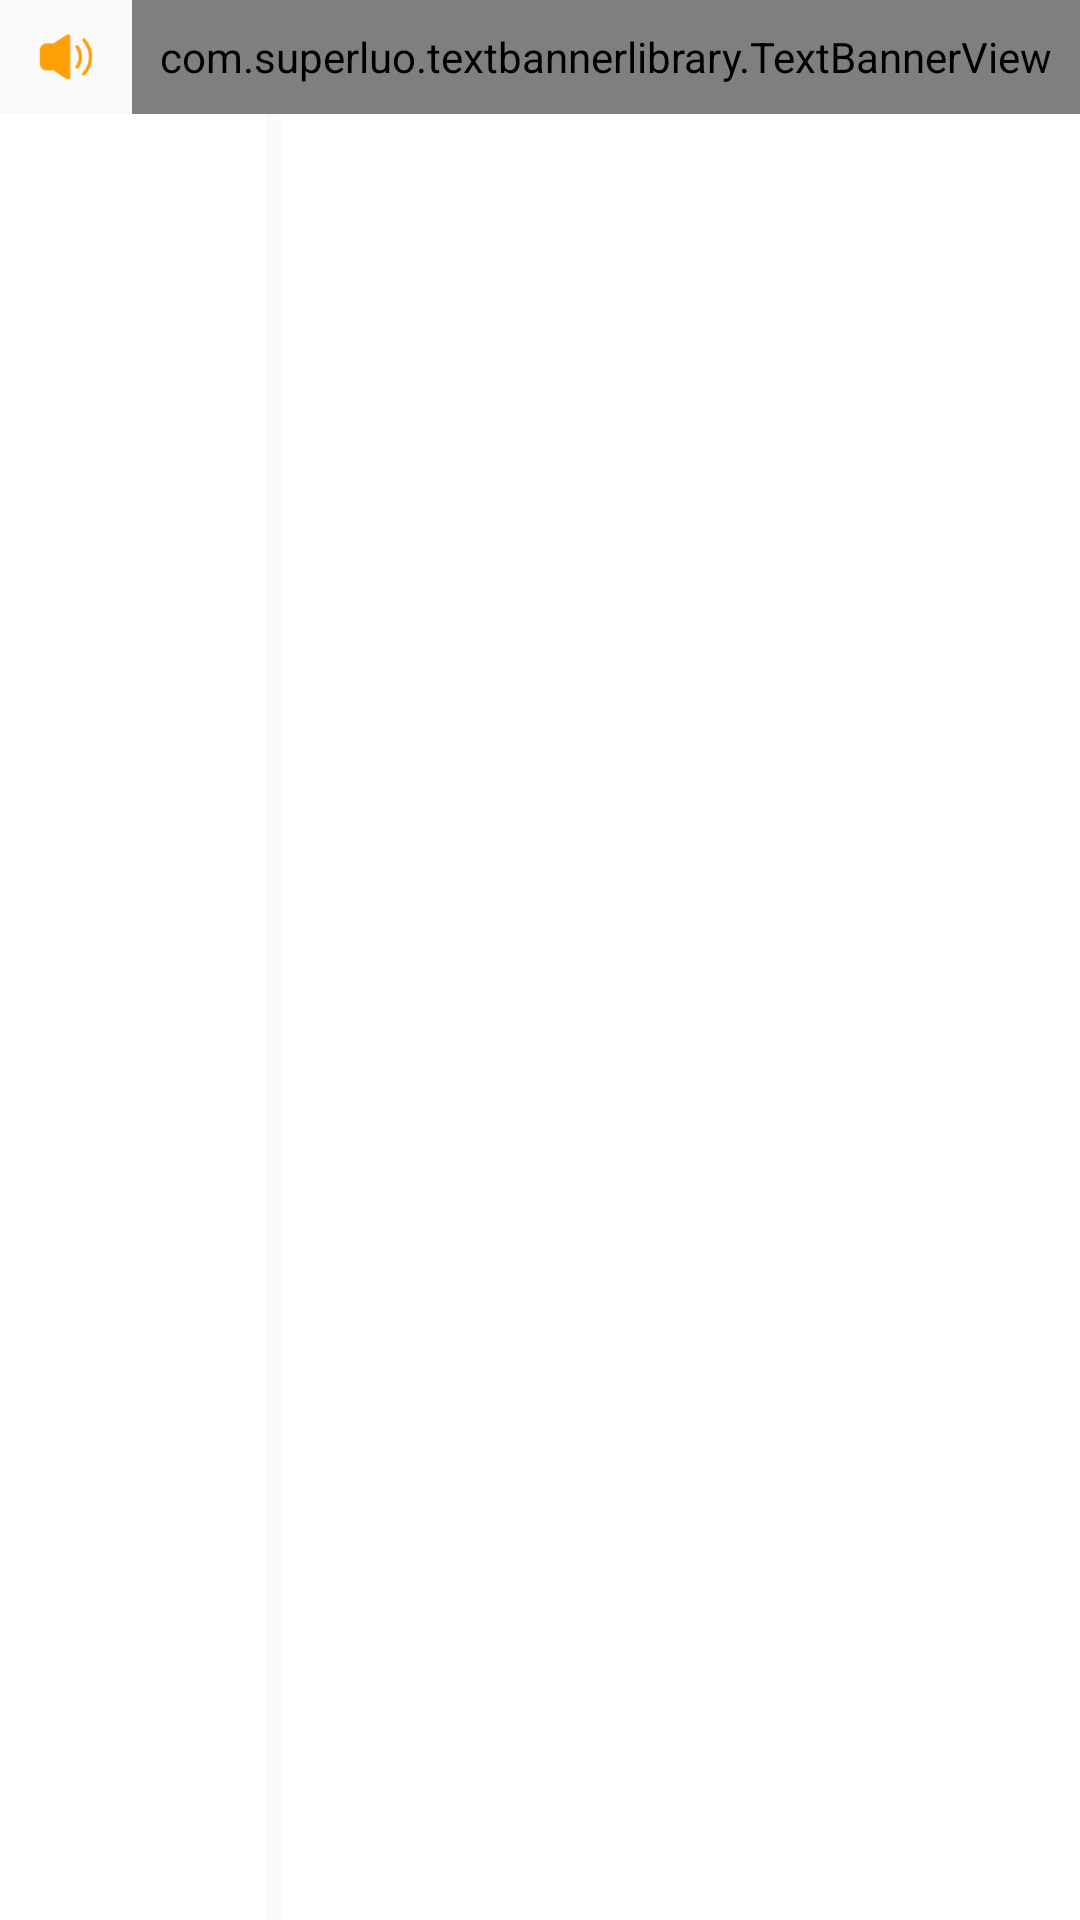

Screen size 1080px x 1920px. Icon name, then its box in pixels as [x1,y1,x2,y2]:
laba: [39,34,93,80]
